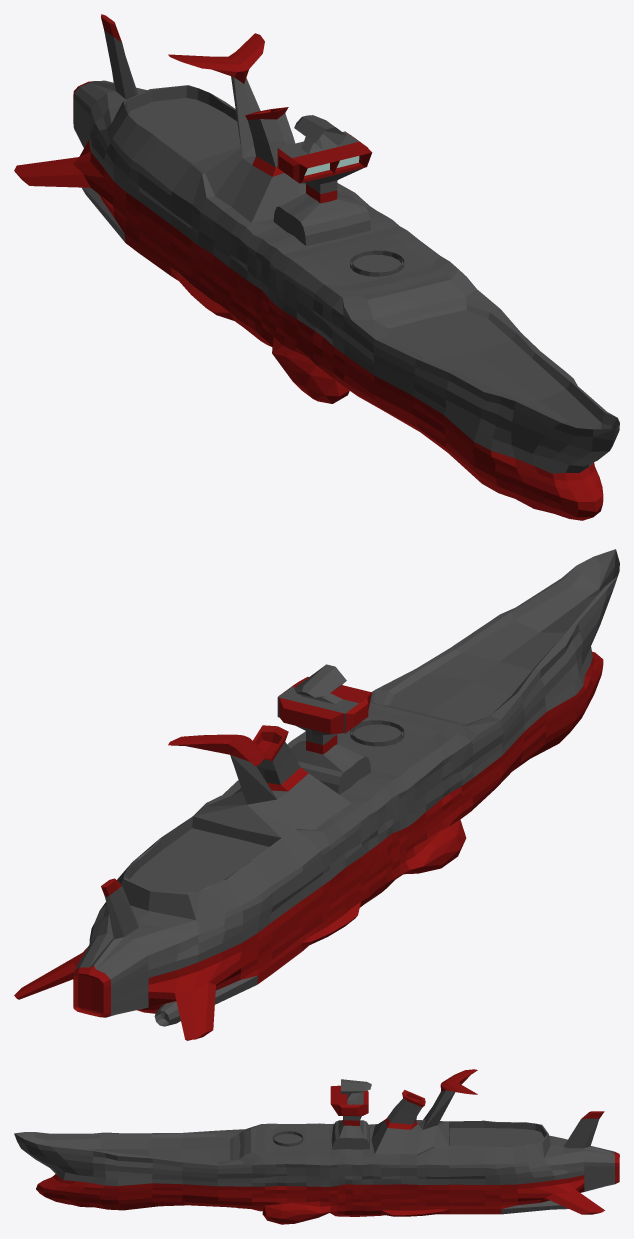
File: Yamato-Complete.fbx
3 renders of one model, top to bottom at view 1: azimuth 30°, elevation 25°; view 2: azimuth 150°, elevation 25°; view 3: azimuth 270°, elevation 25°, orthographic. The views are drawn at different scales.
Parts seen in each view (by area): view 1: Cube; view 2: Cube; view 3: Cube.
Boxes of the visible parts, box(x1,y1,x2,y2) form: Cube: box(14, 14, 619, 520); Cube: box(14, 549, 619, 1040); Cube: box(14, 1069, 619, 1224).
Size of the model in its own units: 11.37 by 13.16 by 56.52.
